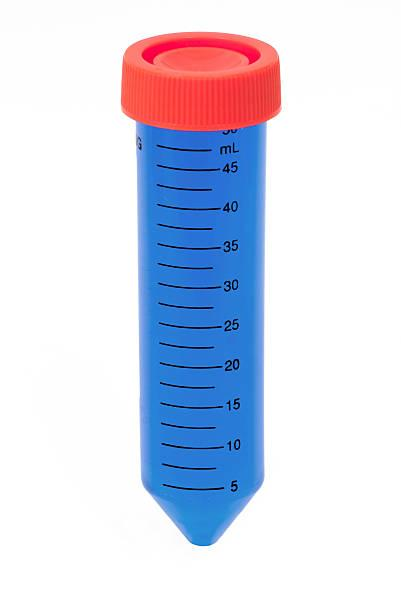Test tube: (114, 32, 267, 545)
